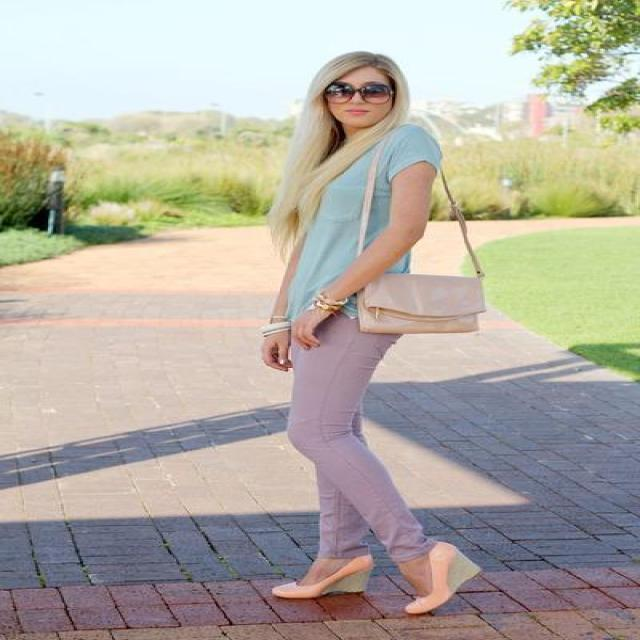bag: (346, 254, 484, 334)
pants: (275, 294, 435, 575)
shirt: (272, 100, 440, 319)
shoe: (288, 541, 478, 612)
sunglass: (320, 73, 395, 114)
